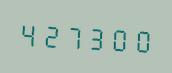four: (17, 16, 38, 50)
seven: (62, 18, 83, 52)
three: (84, 19, 105, 53)
two: (39, 17, 60, 51)
zero: (106, 21, 127, 55), (128, 22, 149, 56)
